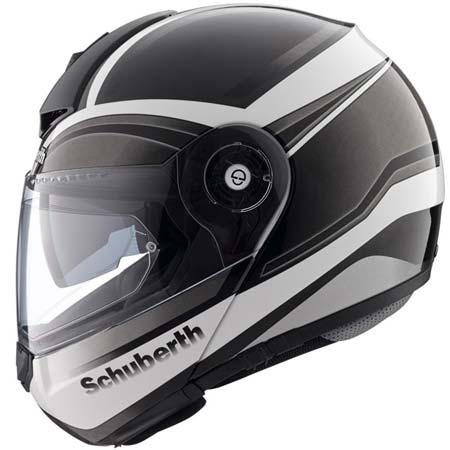with_helmet: (5, 2, 450, 447)
